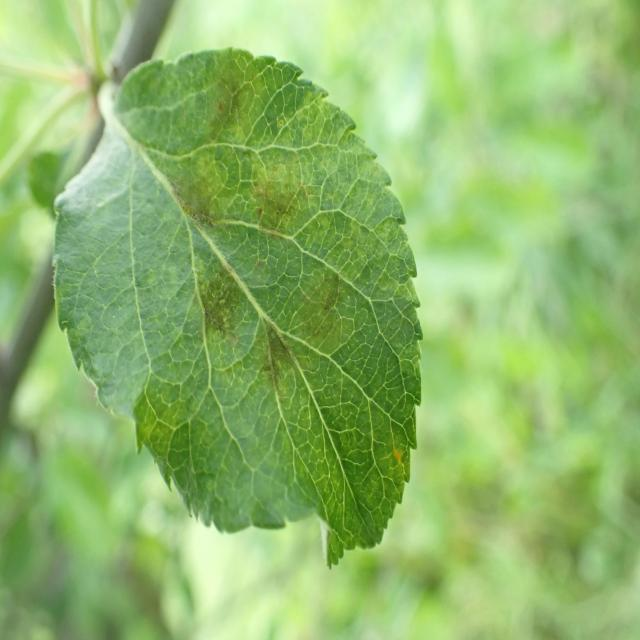Rust: (386, 446, 408, 476)
scab: (162, 62, 364, 422)
